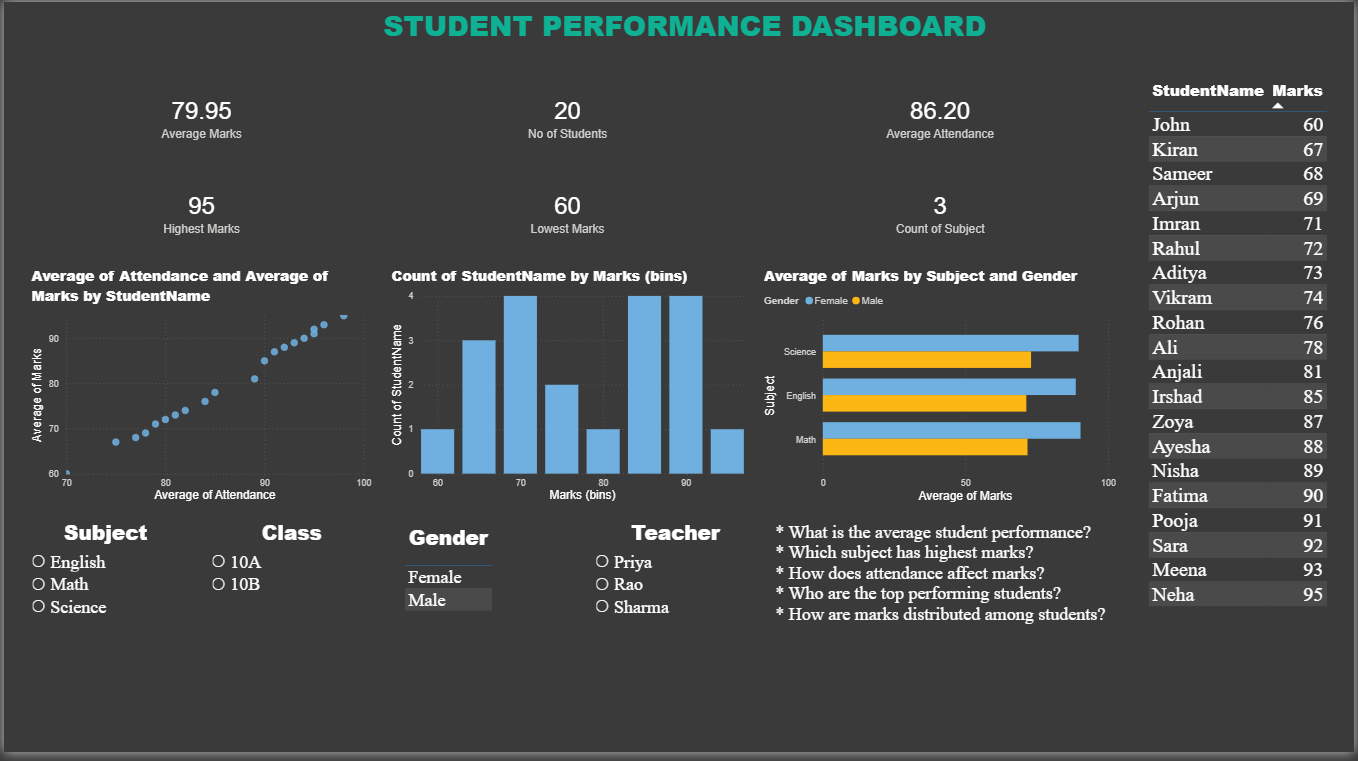

What the dashboard file says about the page in this screenshot:
{"tool":"powerbi","page":{"name":"Page 1","canvas":[1800,1000],"ordinal":0},"visuals":[{"type":"card","fields":{"Values":["Avg(Sheet1.Marks)"]},"box":[32,96,464,112],"z":0},{"type":"card","fields":{"Values":["Avg(Sheet1.Attendance)"]},"box":[1008,96,480,112],"z":1000},{"type":"card","fields":{"Values":["CountNonNull(Sheet1.StudentName)"]},"box":[512,96,480,112],"z":2000},{"type":"clusteredBarChart","fields":{"Category":["Sheet1.Subject"],"Y":["Avg(Sheet1.Marks)"],"Series":["Sheet1.Gender"]},"box":[1008,352,480,320],"z":3000},{"type":"tableEx","fields":{"Values":["Sheet1.StudentName","Sheet1.Marks"]},"box":[1520,96,256,880],"z":4000},{"type":"clusteredColumnChart","fields":{"Y":["CountNonNull(Sheet1.StudentName)"],"Category":["Sheet1.Marks (bins)"]},"box":[512,352,480,320],"z":5000},{"type":"listSlicer","fields":{"Values":["Sheet1.Class"]},"box":[272,688,224,288],"z":6000},{"type":"listSlicer","fields":{"Values":["Sheet1.Subject"]},"box":[32,688,208,288],"z":7000},{"type":"listSlicer","fields":{"Values":["Sheet1.Teacher"]},"box":[784,688,224,288],"z":8000},{"type":"tableEx","fields":{"Values":["Sheet1.Gender"]},"box":[528,688,224,288],"z":9000},{"type":"textbox","box":[488.3,0,833.3,66.7],"z":10000},{"type":"scatterChart","fields":{"X":["Avg(Sheet1.Attendance)"],"Y":["Avg(Sheet1.Marks)"],"Category":["Sheet1.StudentName"]},"box":[32,352,464,320],"z":11000},{"type":"textbox","box":[1024,688,480,288],"z":12000},{"type":"card","title":"Highest marks","fields":{"Values":["Max(Sheet1.Marks)"]},"box":[32,224,464,112],"z":12001},{"type":"card","fields":{"Values":["Min(Sheet1.Marks)"]},"box":[512,224,480,112],"z":12002},{"type":"card","fields":{"Values":["Count(Sheet1.Subject)"]},"box":[1008,224,480,112],"z":12003}]}

Visuals, with their boxes in screenshot pixels (x1, y1, x2, y2), scaled from the page's 1800x1000 canvas onto the 1358x761 screenshot:
card - Avg(Sheet1.Marks): 24,73,374,158
card - Avg(Sheet1.Attendance): 760,73,1123,158
card - CountNonNull(Sheet1.StudentName): 386,73,748,158
clusteredBarChart - Sheet1.Subject x Avg(Sheet1.Marks): 760,268,1123,511
tableEx - Sheet1.StudentName x Sheet1.Marks: 1147,73,1340,743
clusteredColumnChart - CountNonNull(Sheet1.StudentName) x Sheet1.Marks (bins): 386,268,748,511
listSlicer - Sheet1.Class: 205,524,374,743
listSlicer - Sheet1.Subject: 24,524,181,743
listSlicer - Sheet1.Teacher: 591,524,760,743
tableEx - Sheet1.Gender: 398,524,567,743
textbox: 368,0,997,51
scatterChart - Avg(Sheet1.Attendance) x Avg(Sheet1.Marks): 24,268,374,511
textbox: 773,524,1135,743
"Highest marks" card: 24,170,374,256
card - Min(Sheet1.Marks): 386,170,748,256
card - Count(Sheet1.Subject): 760,170,1123,256
